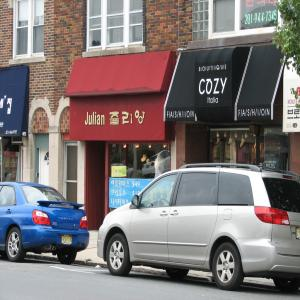Vehicle-registration-plate: (62, 235, 73, 246), (298, 227, 300, 240)
